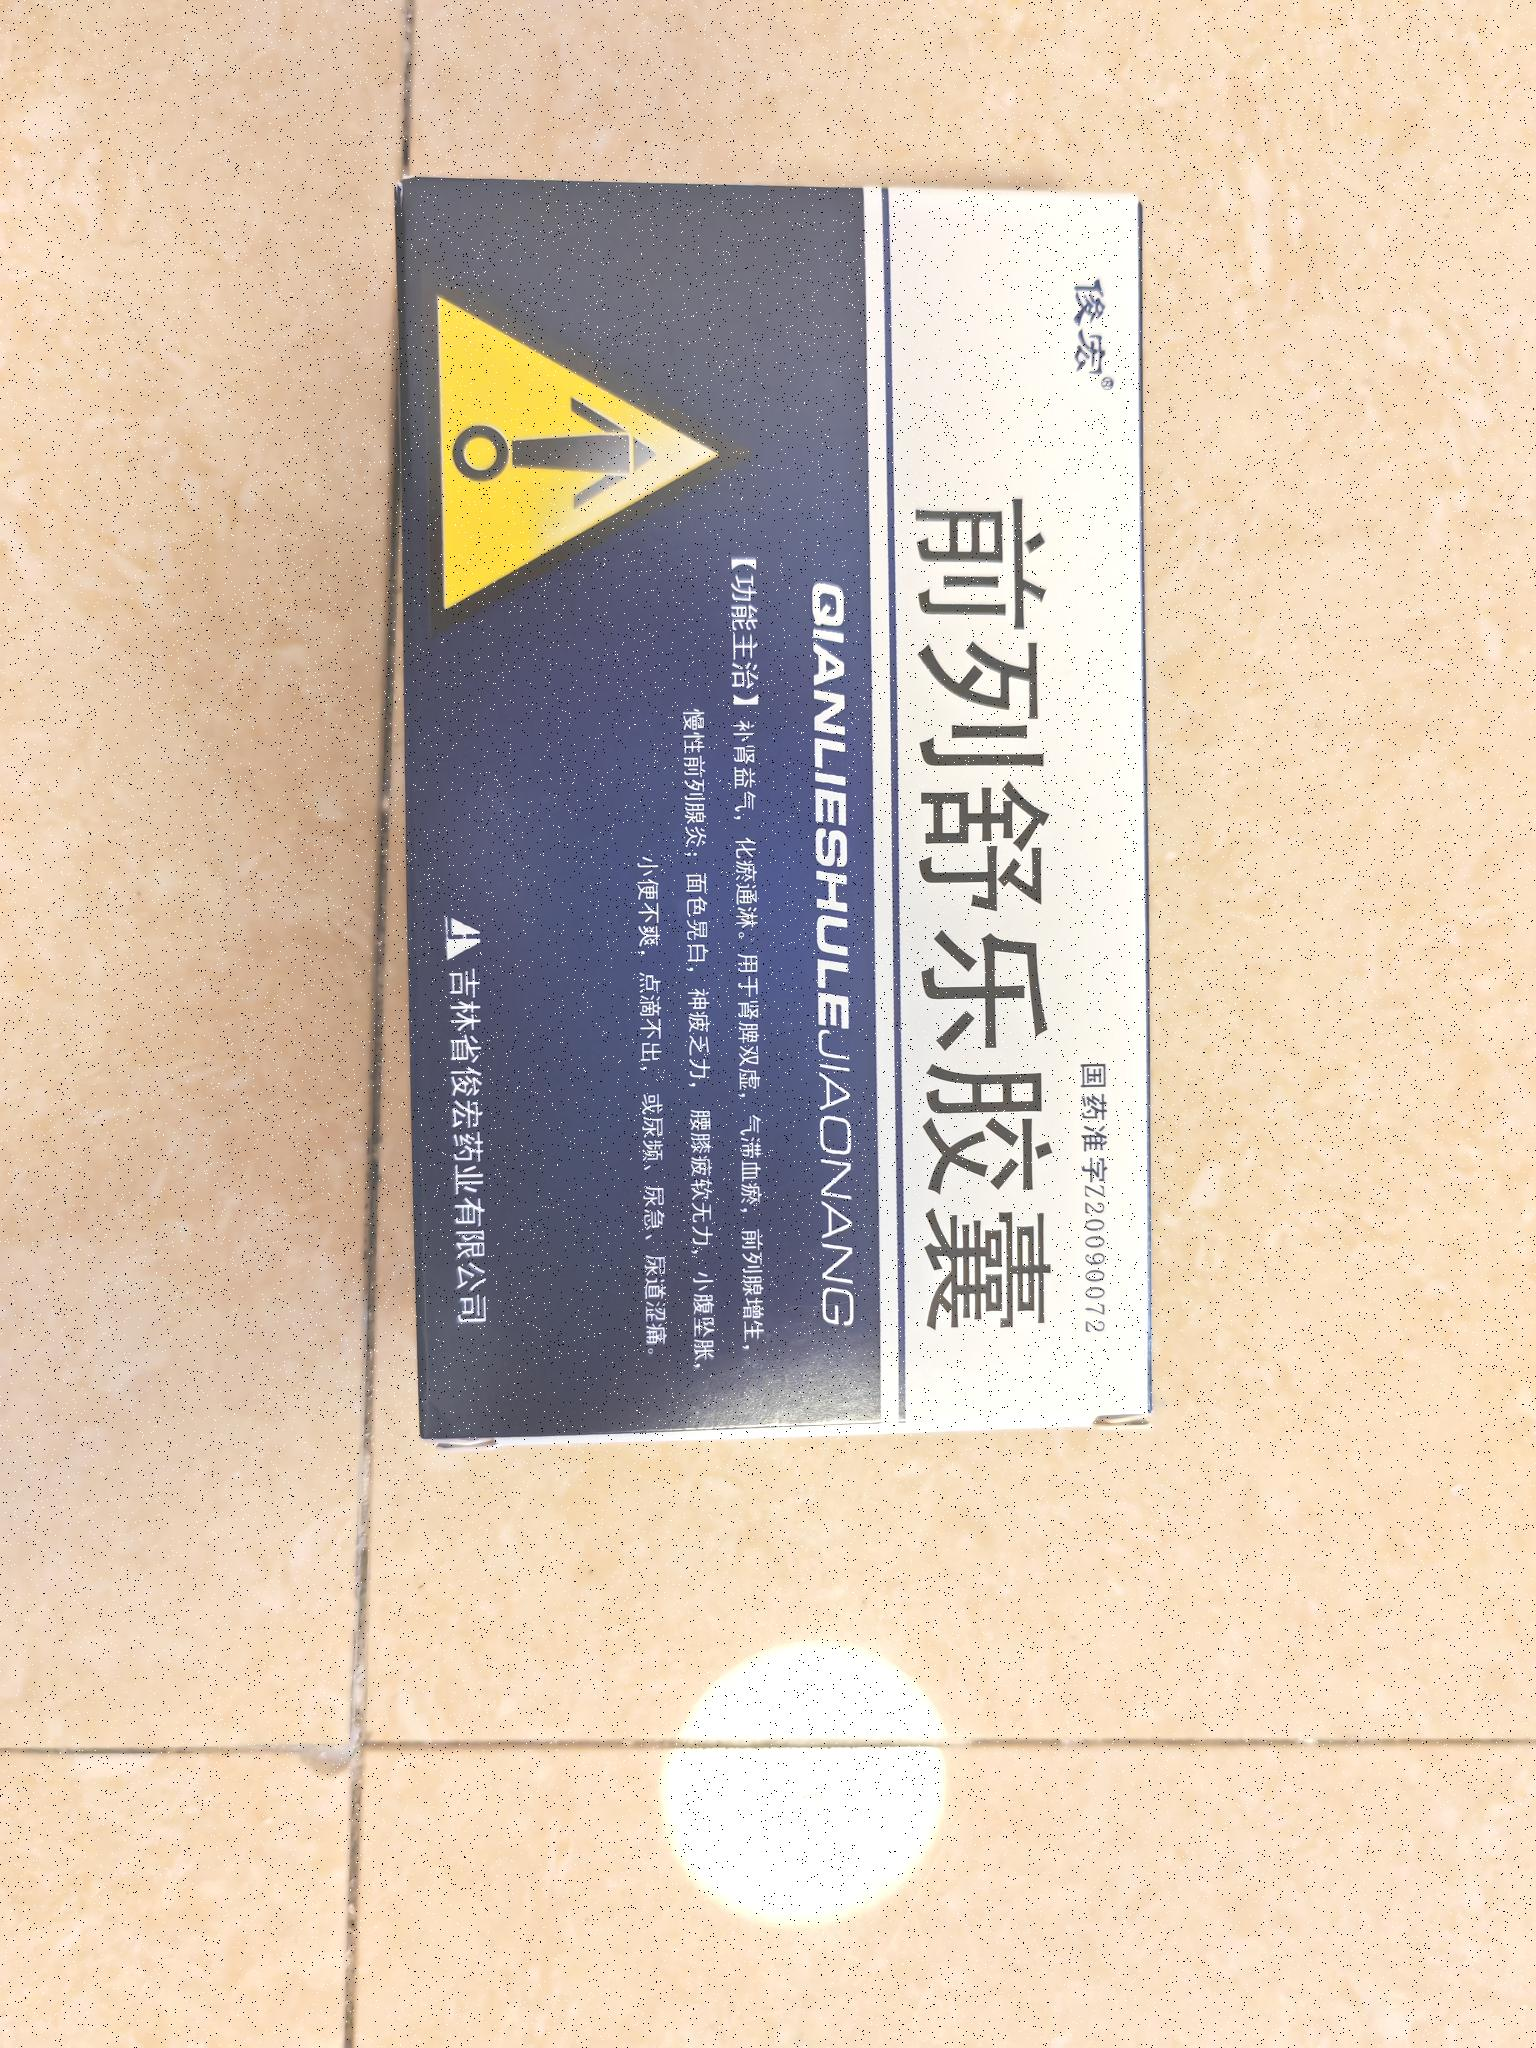Medicine2: (369, 145, 1179, 1472)
